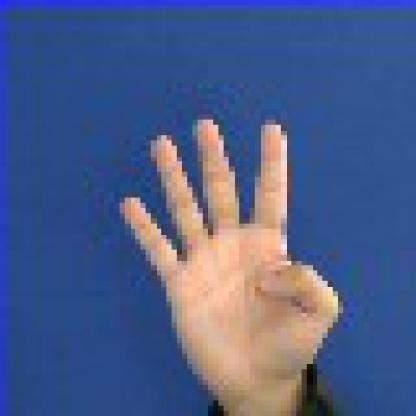four: (110, 109, 366, 404)
